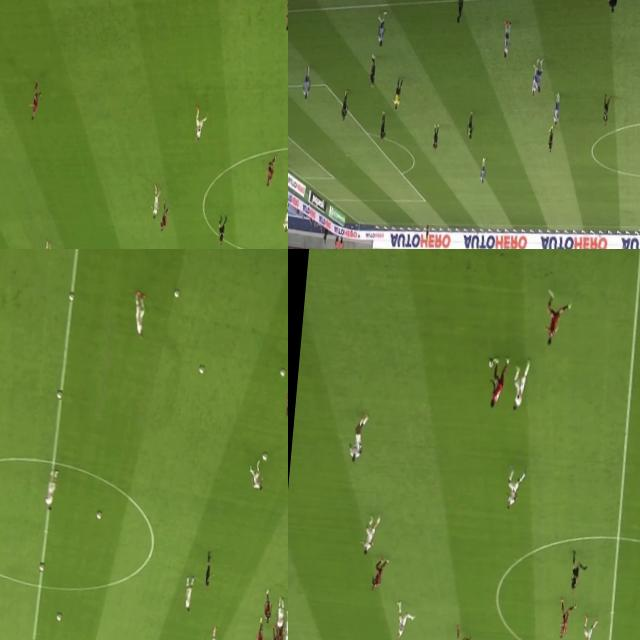ball: (486, 358, 493, 373), (56, 610, 63, 622), (278, 368, 286, 378), (56, 389, 62, 402), (198, 366, 205, 376), (68, 291, 74, 302), (95, 511, 101, 520), (38, 564, 43, 574), (173, 291, 179, 298), (262, 452, 267, 460)
player: (544, 294, 569, 350), (490, 354, 512, 410), (511, 361, 533, 413), (366, 550, 389, 596), (393, 600, 417, 640), (130, 292, 148, 340), (350, 408, 366, 461), (362, 509, 379, 556), (558, 596, 576, 640), (506, 468, 524, 509), (28, 81, 42, 122), (248, 460, 266, 490), (45, 470, 58, 511), (192, 106, 206, 144), (156, 199, 172, 232), (148, 184, 163, 218), (182, 574, 195, 611), (600, 94, 612, 129), (302, 64, 313, 102), (581, 614, 597, 640), (264, 154, 276, 188), (378, 108, 389, 142), (367, 52, 377, 88), (552, 92, 562, 128), (502, 24, 512, 58), (264, 588, 274, 622), (376, 13, 386, 46), (276, 596, 286, 628), (532, 62, 542, 92), (340, 91, 350, 120), (430, 123, 440, 152), (530, 64, 538, 98), (478, 157, 488, 184), (546, 124, 555, 154), (281, 198, 288, 235), (283, 370, 288, 415), (455, 0, 464, 24), (283, 0, 288, 37), (256, 618, 264, 640), (467, 113, 474, 138), (453, 631, 471, 640), (209, 626, 218, 640), (270, 628, 280, 640), (284, 612, 288, 640), (41, 240, 52, 249)
